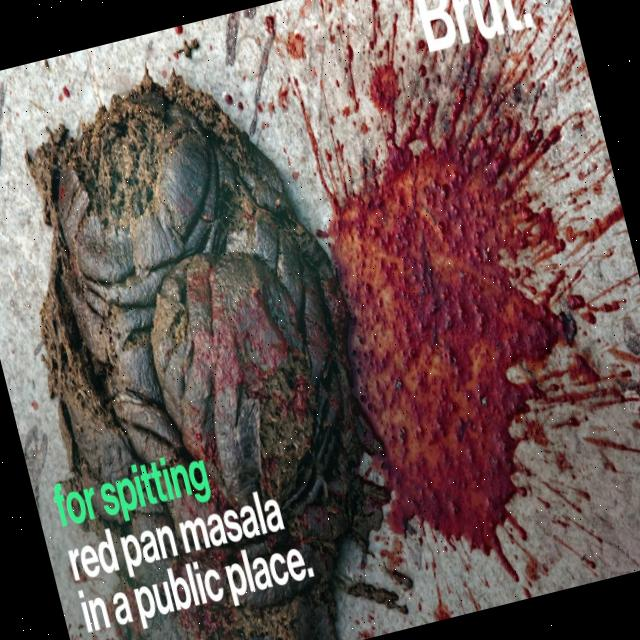spit: (306, 113, 630, 612)
